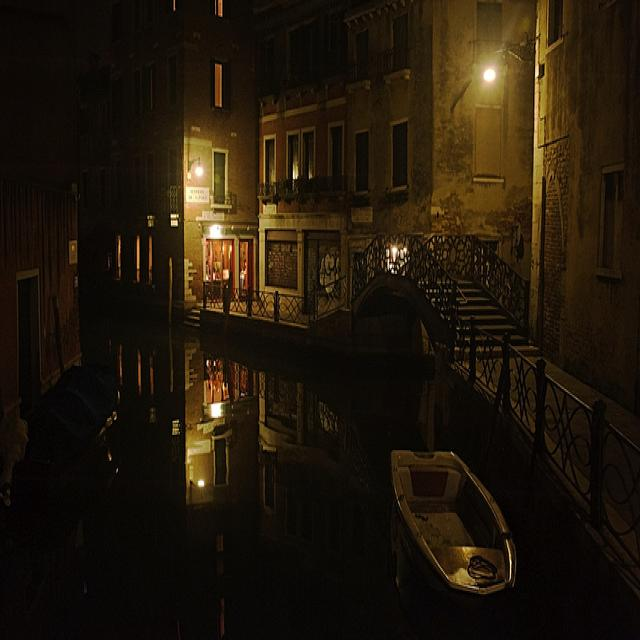Boat: (382, 428, 547, 625)
